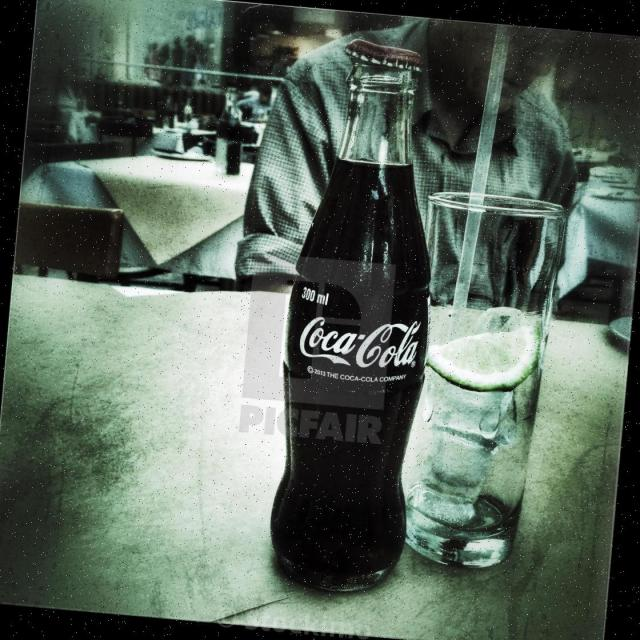coca-cola: (266, 31, 455, 598)
